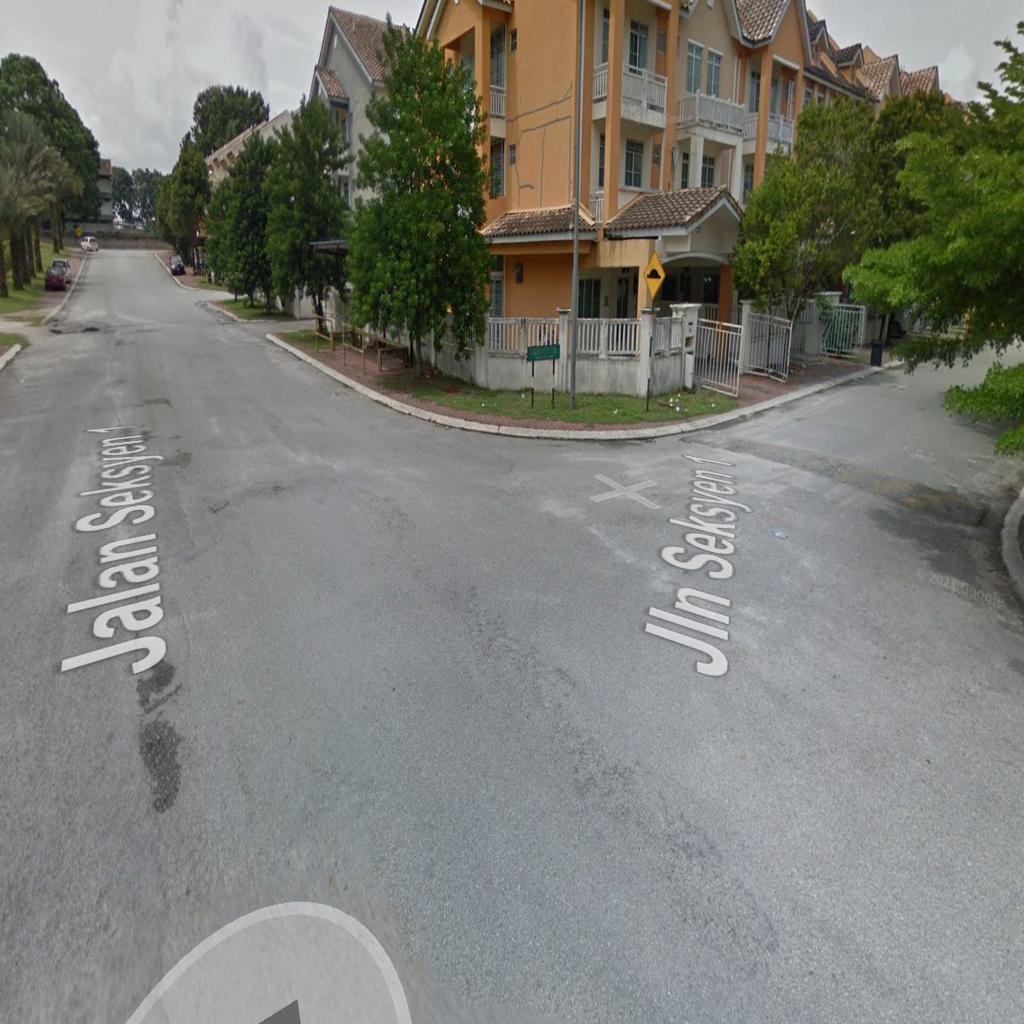Junction: (552, 371, 1022, 648), (181, 304, 336, 357)
